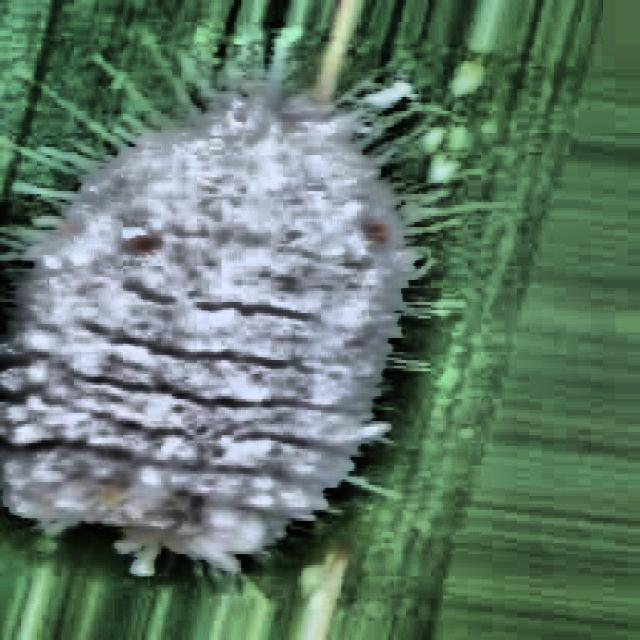Mealy-bug: (0, 33, 469, 638)
